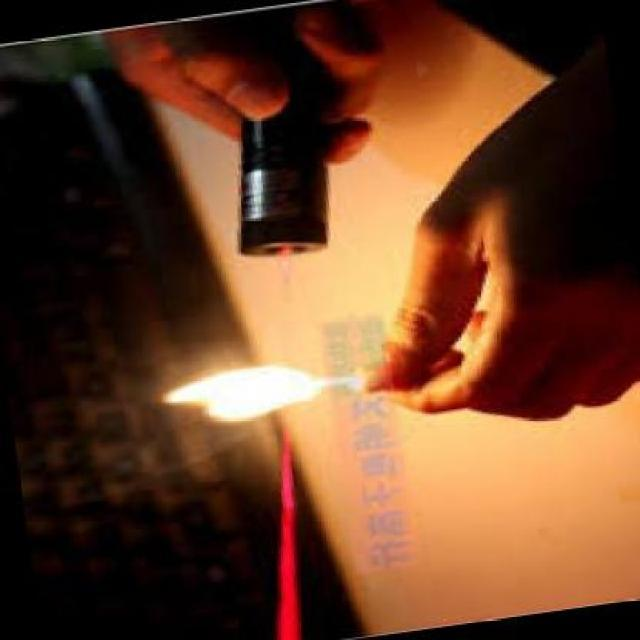Fire: (145, 362, 360, 425)
